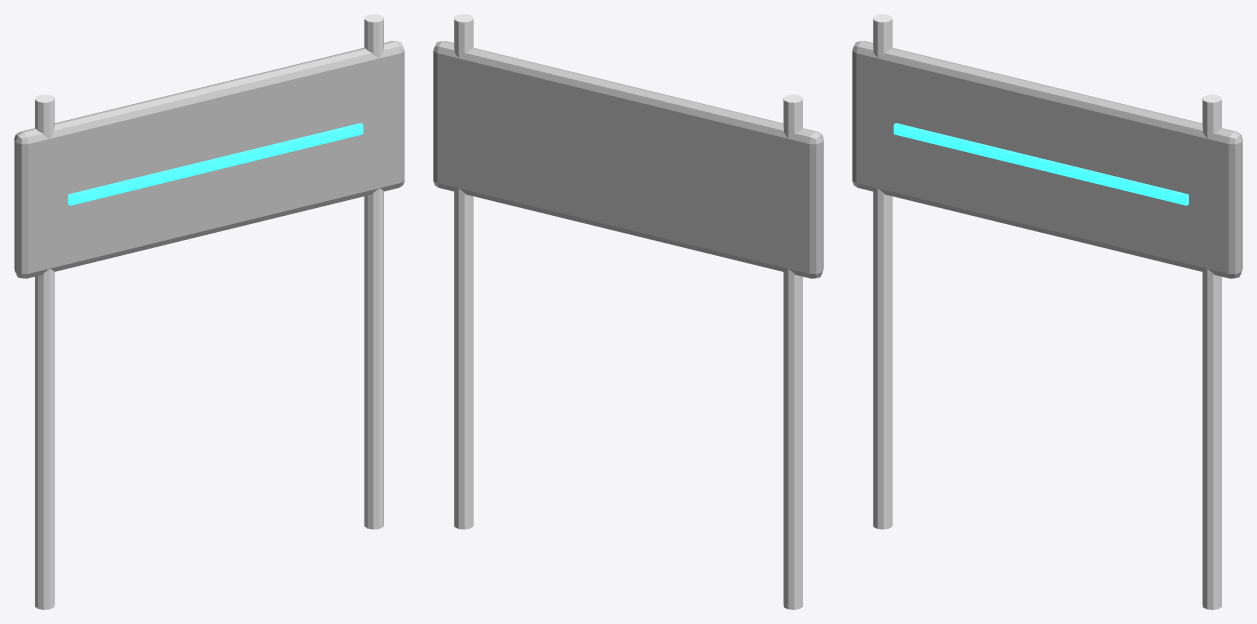
The model's file is SM_FC01_Prop_WayfindingFrame_A.glb.
The picture shows the model from 3 angles, left to right: view 1: azimuth 30°, elevation 25°; view 2: azimuth 150°, elevation 25°; view 3: azimuth 330°, elevation 25°; orthographic projection.
Parts seen in each view (by area): view 1: SM_FC01_Prop_WayfindingFrame_A_Panel, SM_FC01_Prop_WayfindingFrame_A_Post_-0.85, SM_FC01_Prop_WayfindingFrame_A_Post_0.85, SM_FC01_Prop_WayfindingFrame_A_GlowLine; view 2: SM_FC01_Prop_WayfindingFrame_A_Panel, SM_FC01_Prop_WayfindingFrame_A_Post_-0.85, SM_FC01_Prop_WayfindingFrame_A_Post_0.85; view 3: SM_FC01_Prop_WayfindingFrame_A_Panel, SM_FC01_Prop_WayfindingFrame_A_Post_0.85, SM_FC01_Prop_WayfindingFrame_A_Post_-0.85, SM_FC01_Prop_WayfindingFrame_A_GlowLine.
Boxes of the visible parts, bbox=[...] form: SM_FC01_Prop_WayfindingFrame_A_Panel: bbox=[14, 41, 404, 278]; SM_FC01_Prop_WayfindingFrame_A_Post_-0.85: bbox=[35, 94, 54, 609]; SM_FC01_Prop_WayfindingFrame_A_Post_0.85: bbox=[364, 14, 383, 529]; SM_FC01_Prop_WayfindingFrame_A_GlowLine: bbox=[68, 123, 363, 205]; SM_FC01_Prop_WayfindingFrame_A_Panel: bbox=[433, 41, 823, 278]; SM_FC01_Prop_WayfindingFrame_A_Post_-0.85: bbox=[783, 94, 802, 609]; SM_FC01_Prop_WayfindingFrame_A_Post_0.85: bbox=[454, 14, 473, 529]; SM_FC01_Prop_WayfindingFrame_A_Panel: bbox=[852, 41, 1242, 278]; SM_FC01_Prop_WayfindingFrame_A_Post_0.85: bbox=[1202, 94, 1221, 609]; SM_FC01_Prop_WayfindingFrame_A_Post_-0.85: bbox=[873, 14, 892, 529]; SM_FC01_Prop_WayfindingFrame_A_GlowLine: bbox=[893, 123, 1188, 205].
Bounding box in the file's own units: 2 × 2.5 × 0.1125.
